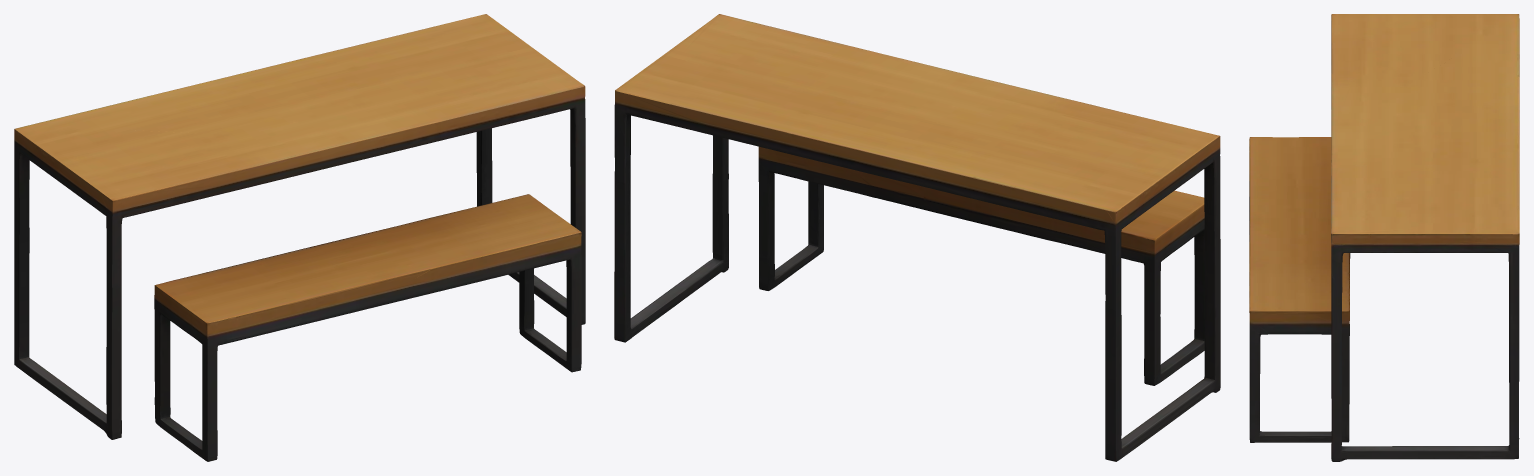
3 views of the same model, side by side, from view 1: azimuth 30°, elevation 25°; view 2: azimuth 150°, elevation 25°; view 3: azimuth 270°, elevation 25° (orthographic). The views are drawn at different scales.
Parts seen in each view (by area): view 1: geometry_0; view 2: geometry_0; view 3: geometry_0.
Boxes of the visible parts, bbox=[...] form: geometry_0: bbox=[14, 14, 585, 461]; geometry_0: bbox=[614, 14, 1220, 461]; geometry_0: bbox=[1249, 14, 1519, 461].
Size of the model in its own units: 1 by 0.4893 by 0.5179.
Materials: 1 (1 with a texture image).
